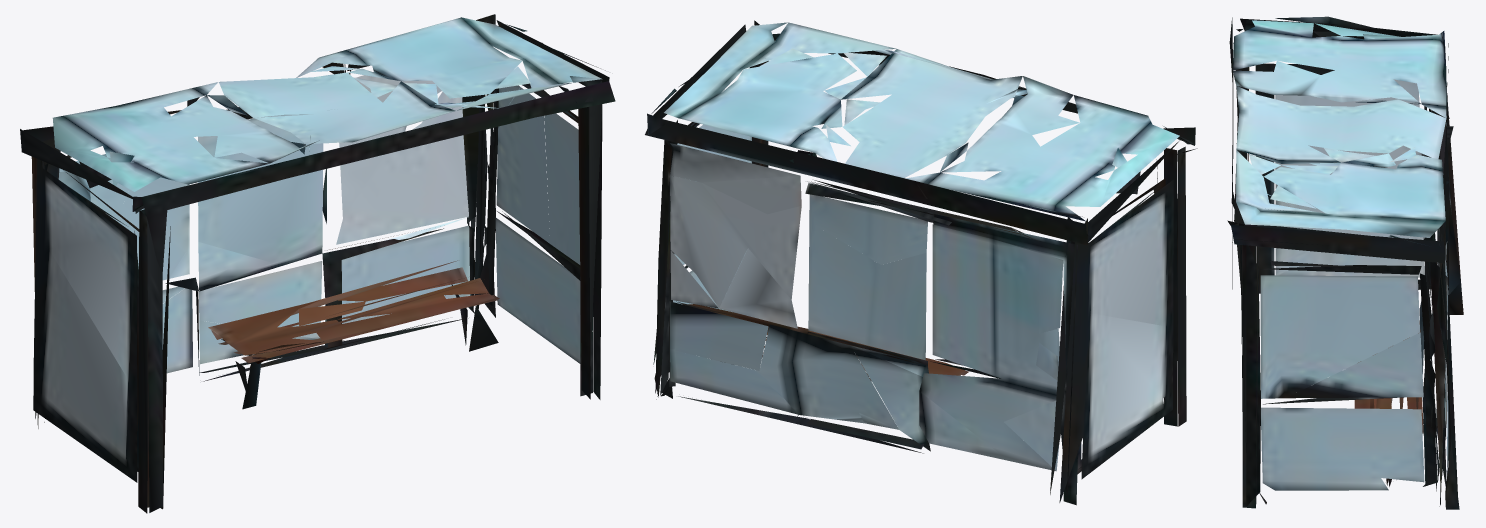
File: stadt_bushaltestelle_lo.glb
The picture shows the model from 3 angles, left to right: view 1: azimuth 30°, elevation 25°; view 2: azimuth 150°, elevation 25°; view 3: azimuth 270°, elevation 25°; orthographic projection. The views are drawn at different scales.
Visible parts, largest first — view 1: Prop; view 2: Prop; view 3: Prop.
Part boxes in pixels (<box>): Prop: <box>20,14,615,513</box>; Prop: <box>645,20,1197,505</box>; Prop: <box>1227,16,1463,509</box>.
Size of the model in its own units: 1.55 by 1.04 by 0.7425.
Materials: 1 (1 with a texture image).
